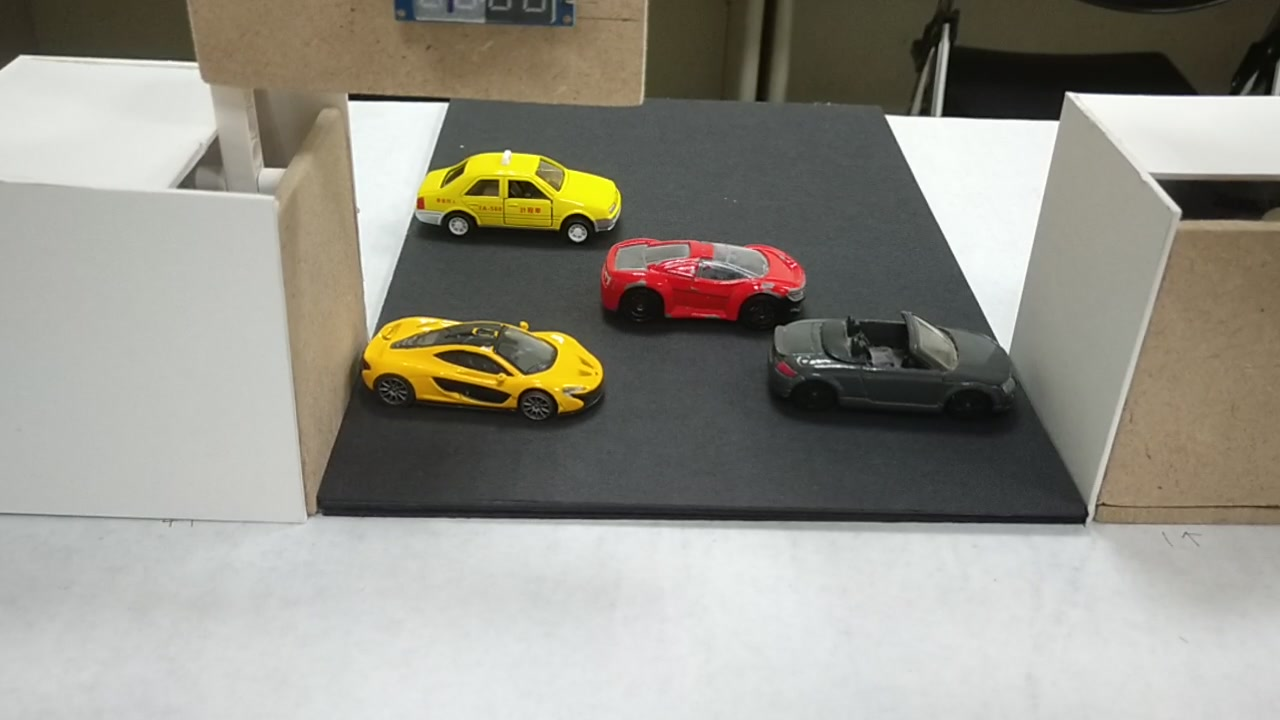car: (358, 313, 600, 415), (771, 317, 1022, 411), (601, 239, 809, 326), (410, 156, 619, 237)
